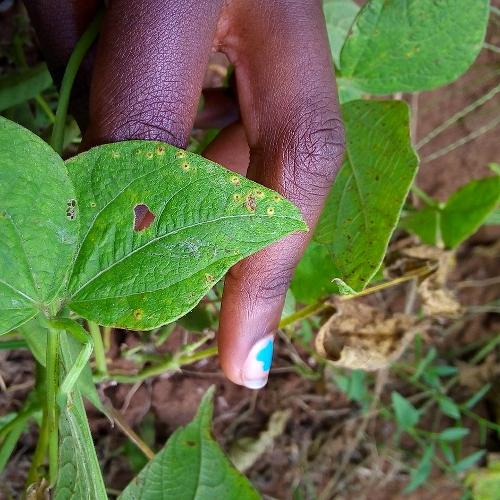mozaik: (62, 137, 307, 333)
